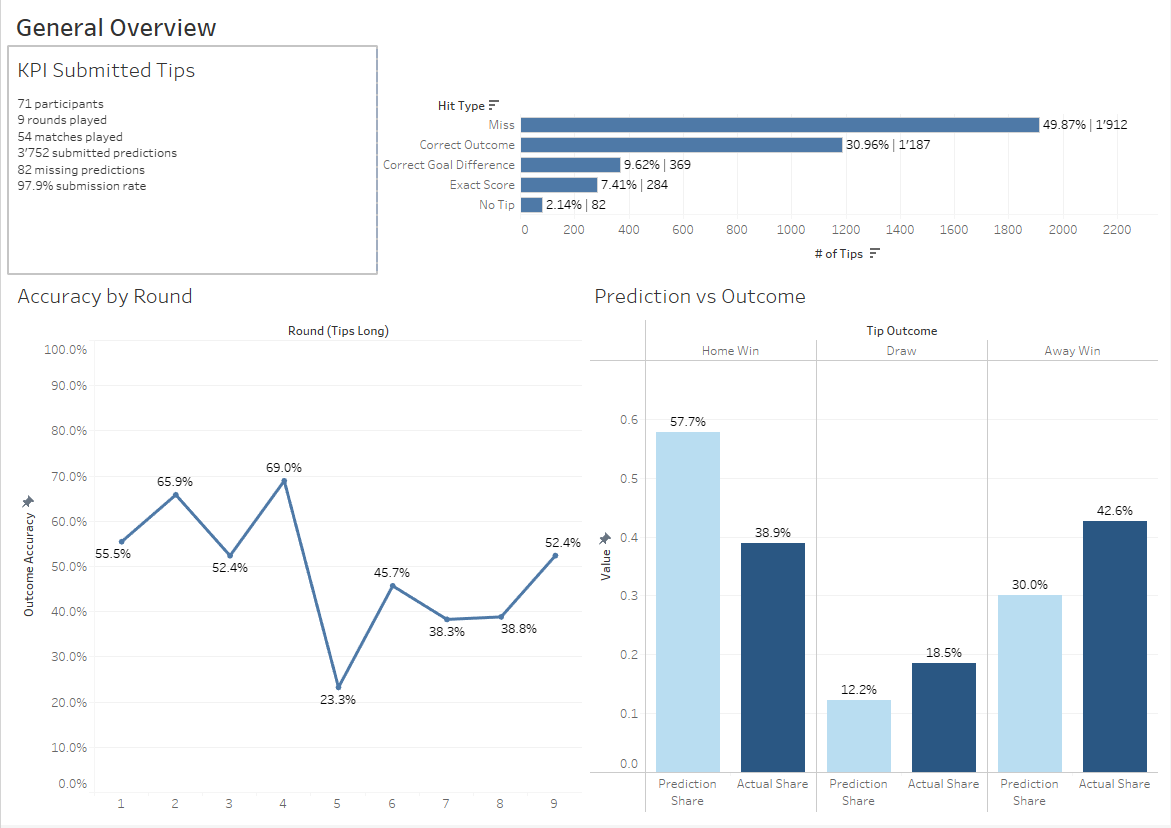

The dashboard page shown, as its layout file describes it:
{"tool":"tableau","page":{"name":"Dashboard 01 - Prediction Overview","canvas":[1169,827],"ordinal":0},"visuals":[{"type":"title","box":[8,8,1153,41]},{"type":"worksheet","title":"KPI Submitted Tips","mark":"Automatic","box":[8,49,367,226.3]},{"type":"worksheet","title":"Hit Types","mark":"Bar","rows":["Hit Type"],"cols":["Tips Long_E62A652EDBC0417C9B7D62EEEA836184"],"box":[375,49,786,226.3]},{"type":"worksheet","title":"Accuracy by Round","mark":"Line","rows":["Calculation_1592303990832562183"],"cols":["Round (Tips Long)"],"box":[8,275.3,576.5,543.7]},{"type":"worksheet","title":"Prediction vs Outcome","mark":"Bar","cols":["Tip Outcome"],"box":[584.5,275.3,576.5,543.7]}]}

Visuals, with their boxes in screenshot pixels (x1, y1, x2, y2), scaled from the page's 1169x827 canvas onto the 1171x828 screenshot:
title: 8/8/1163/49
"KPI Submitted Tips" worksheet: 8/49/376/276
"Hit Types" worksheet (Bar marks): 376/49/1163/276
"Accuracy by Round" worksheet (Line marks): 8/276/586/820
"Prediction vs Outcome" worksheet (Bar marks): 586/276/1163/820
